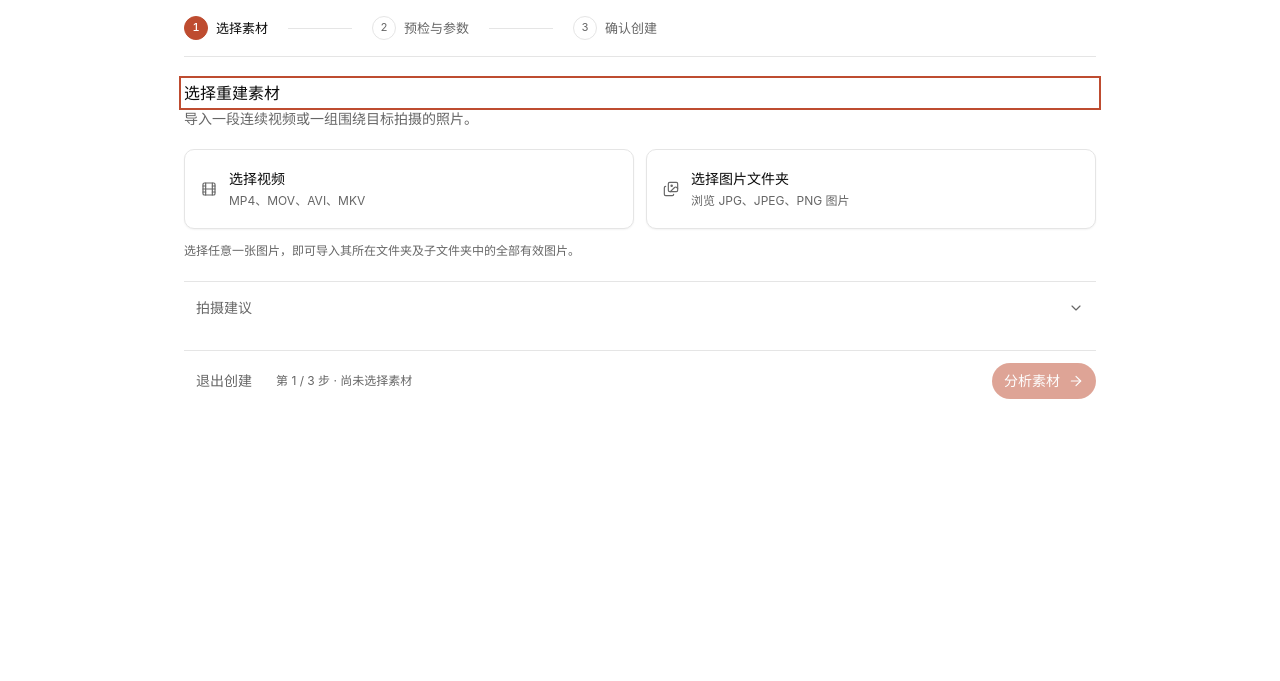
Test: NewProjectPage › ignores a stale preset result after the latest check finishes (latest allowed: false)
Step 1. Click the button "选择视频 MP4、MOV、AVI、MKV" → [257, 178], box [184,149,634,229]
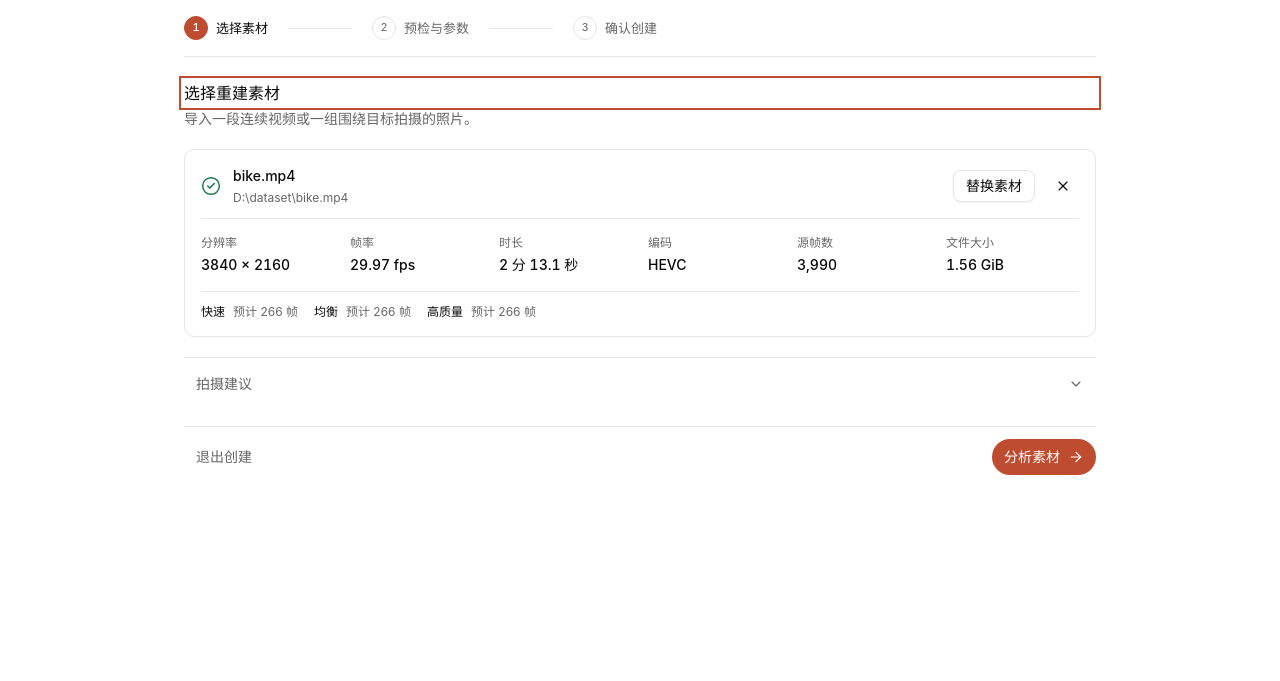
Check: the text "3840 × 2160" is shown, box [201,256,290,273]
Step 2. Click the button named "下一步" → [1044, 457], box [992,439,1096,475]
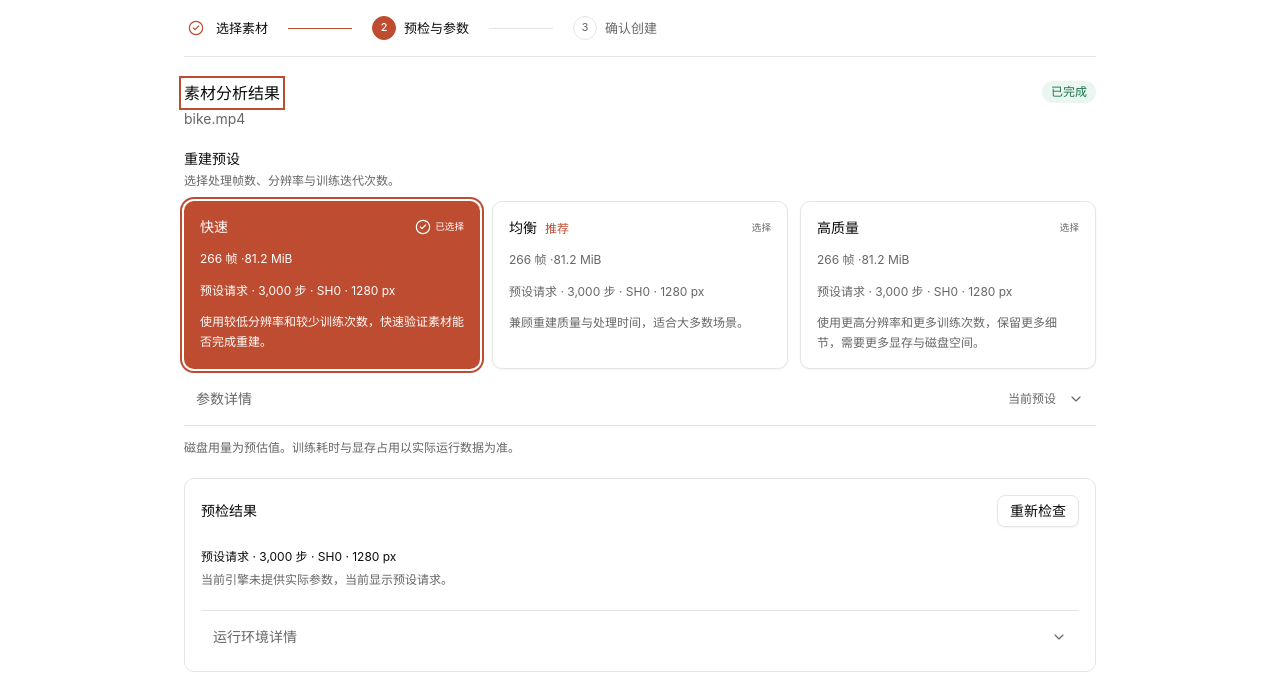
Check: the heading "重建预设" is shown, box [184,150,240,167]
Step 3. Click the button "高质量" → [948, 285], box [800,201,1096,369]
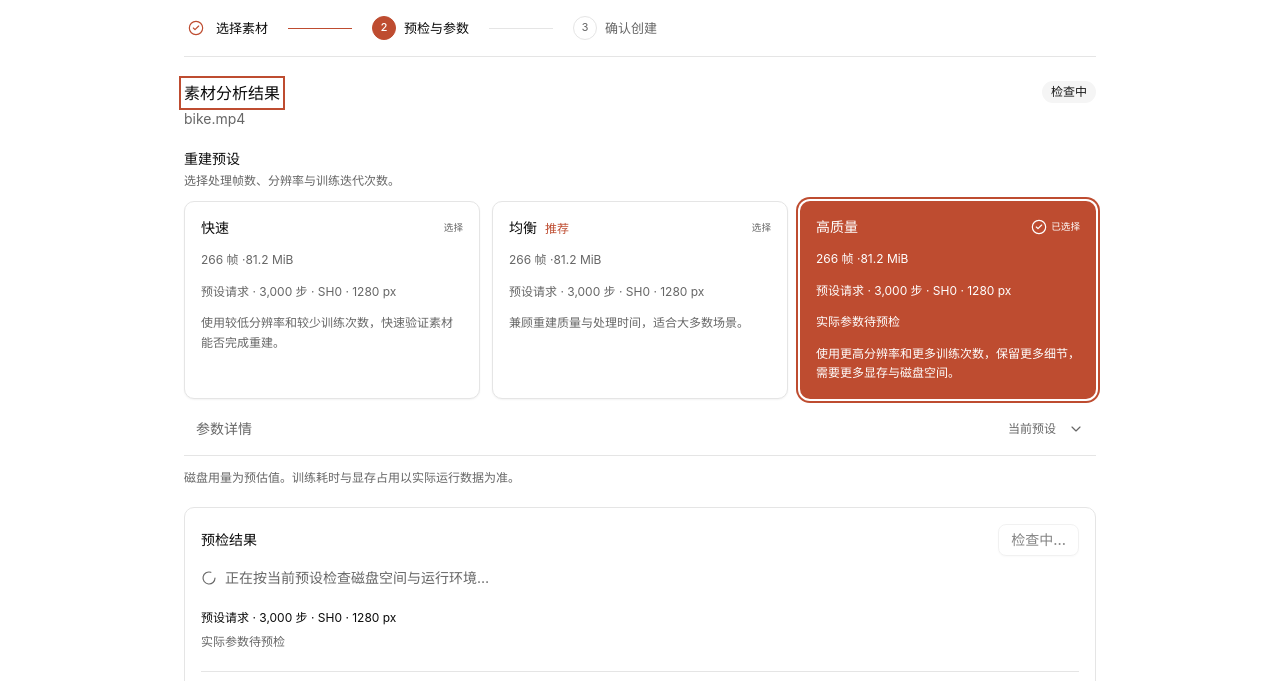
Step 4. Click the button "均衡" → [640, 300], box [492,201,788,398]
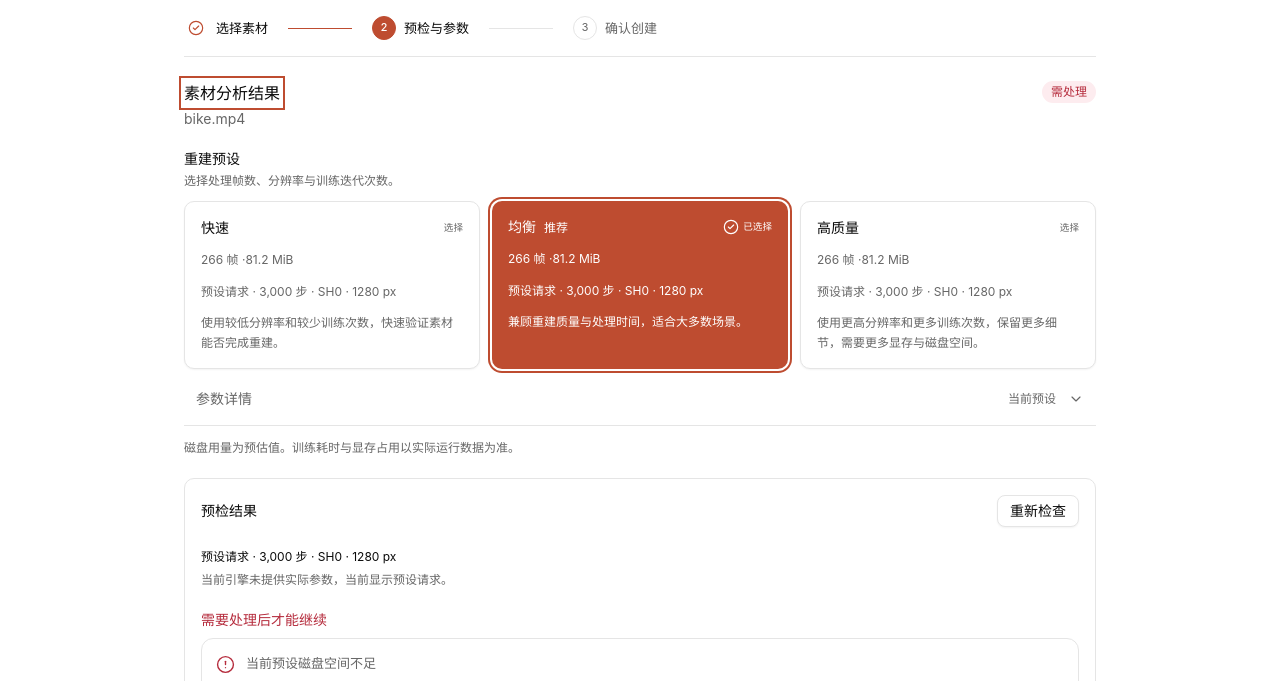
Check: the text "当前预设磁盘空间不足" is shown, box [246,654,376,670]
Check: the text "正在按当前预设检查" is gone
